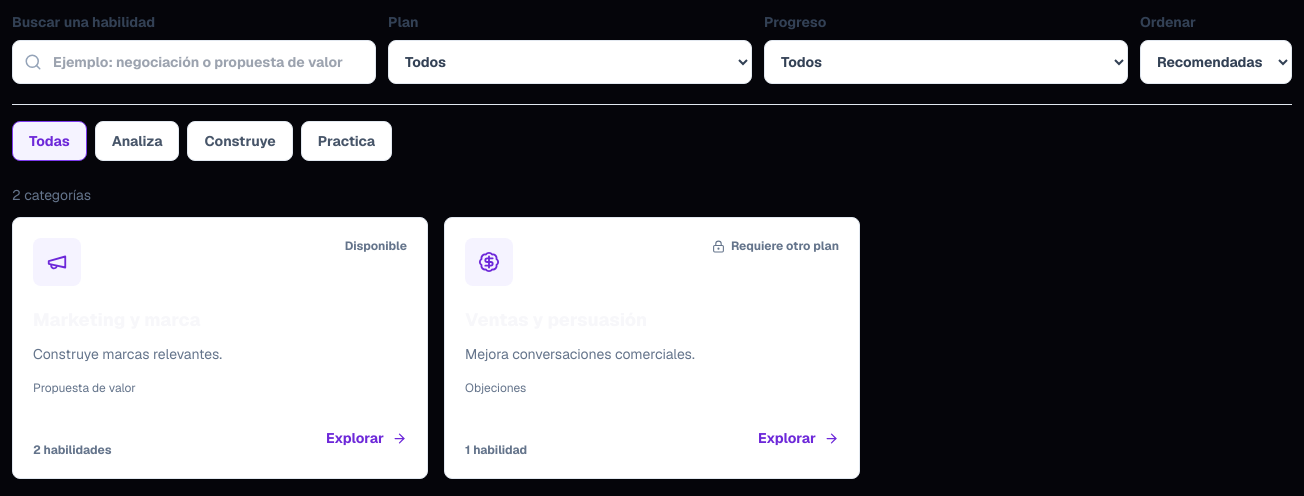
Test: TrainingCategoriesExplorer › filtra por modo, plan y texto sin perder accesibilidad
The image size is (1304, 496).
Click the button "Practica".
click(346, 141)  # box [301,121,392,161]
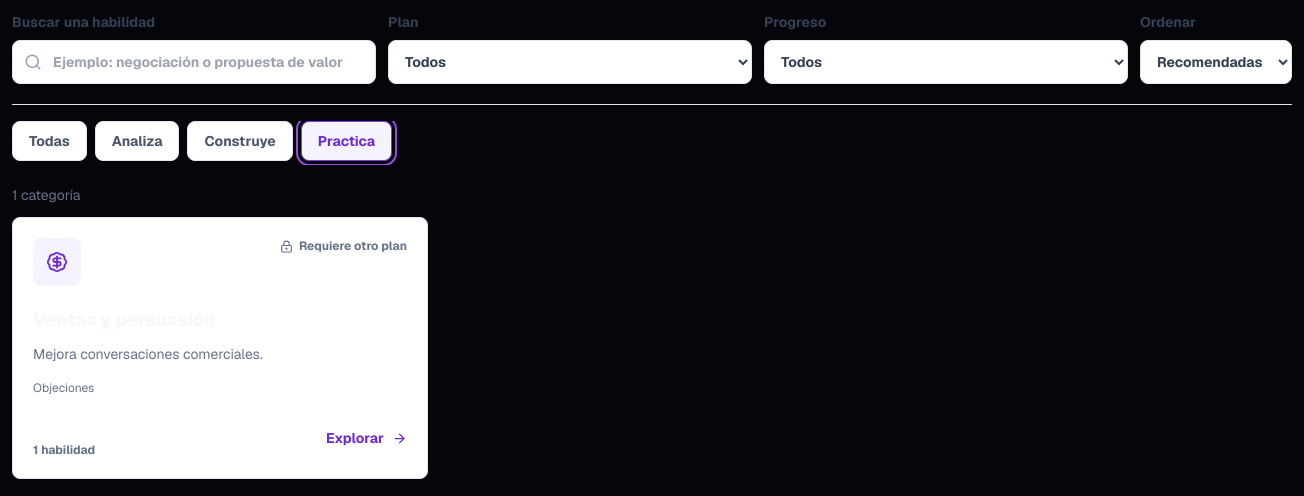
Expected: the heading "Marketing y marca" is not shown
Select "Gratis" in the dropdown labelled "Plan" at x=570, y=62, box [388,40,752,84]
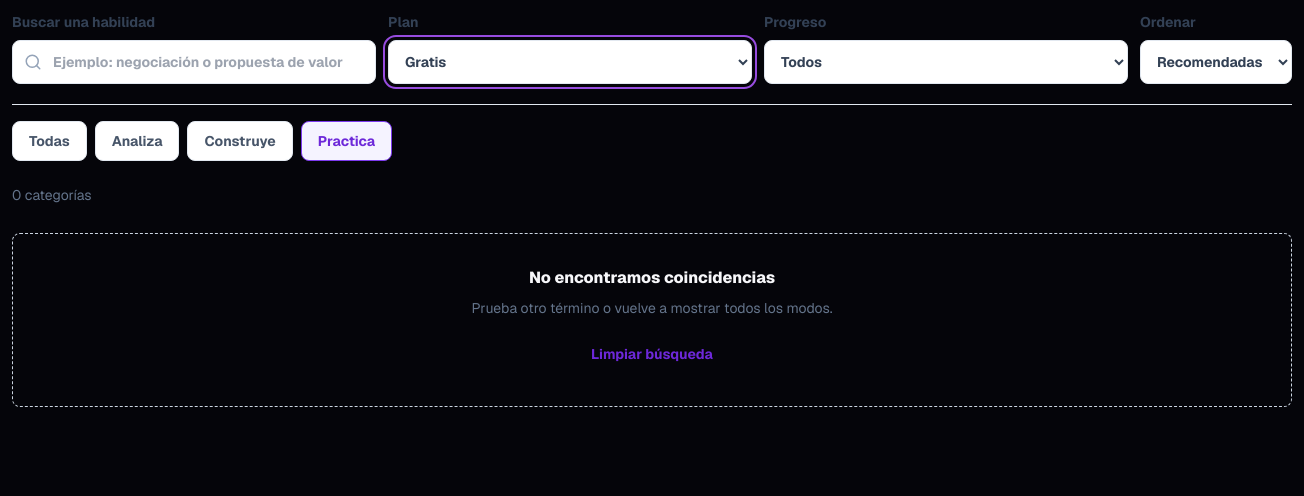
Expected: the heading "No encontramos coincidencias" is shown, [529,267,775,288]
Click the button "Limpiar búsqueda".
click(652, 354)  # box [591,334,713,374]
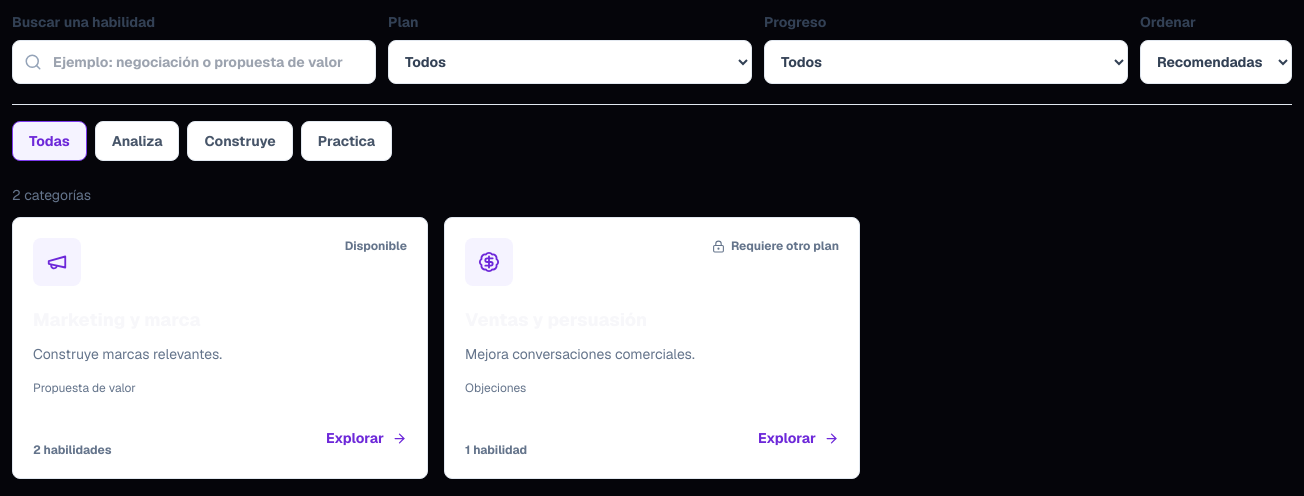
Type "propuesta" into the search field labelled "Buscar una habilidad".
click(194, 62); type("propuesta")  # box [12,40,376,84]
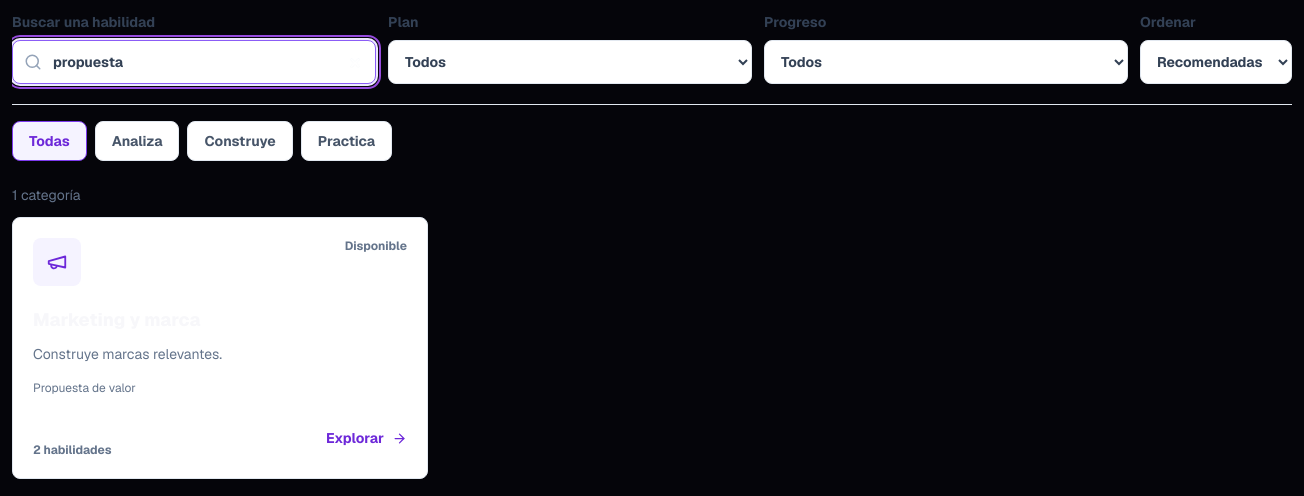
Expected: the heading "Ventas y persuasión" is gone
